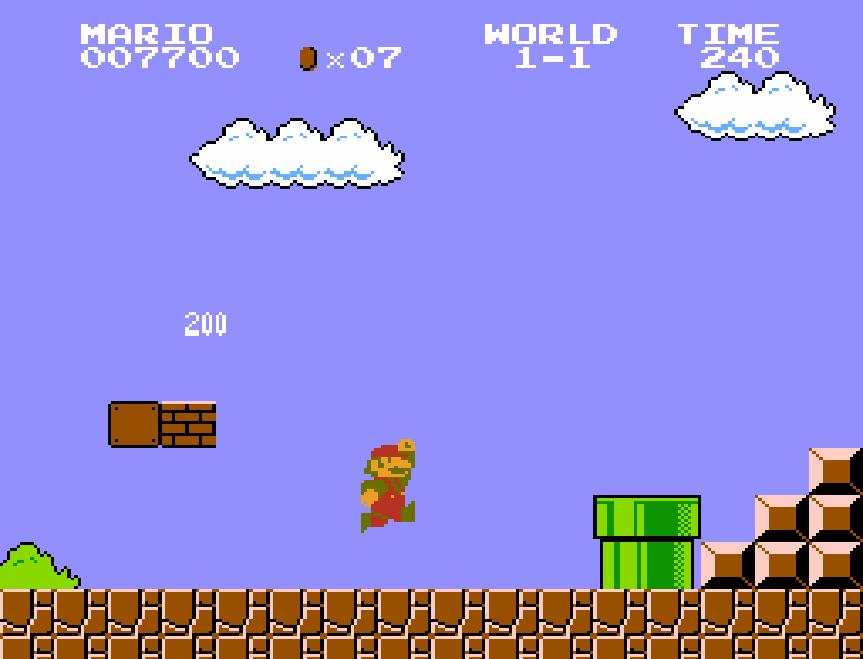big_mario: (358, 437, 416, 535)
